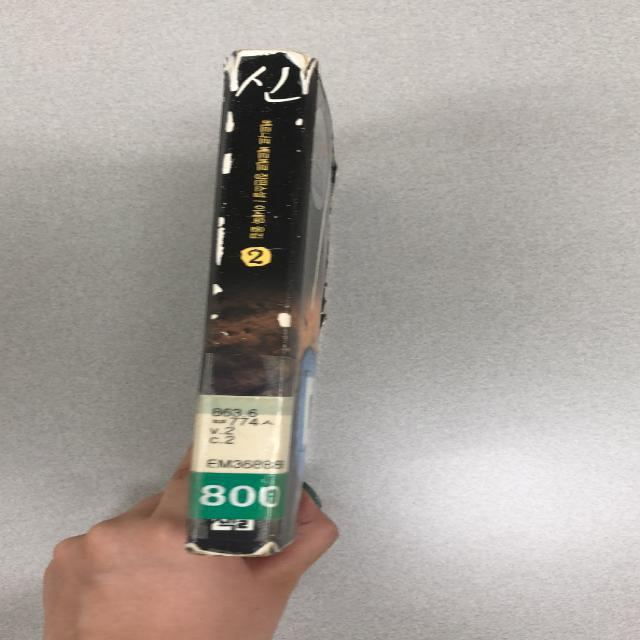Ripped: (215, 49, 240, 93), (295, 52, 319, 96)
Wornout: (178, 541, 294, 559), (237, 47, 296, 65), (212, 214, 229, 266), (272, 307, 296, 331), (222, 110, 239, 134), (292, 111, 309, 135), (218, 151, 235, 175), (210, 279, 227, 303), (207, 310, 224, 324)
